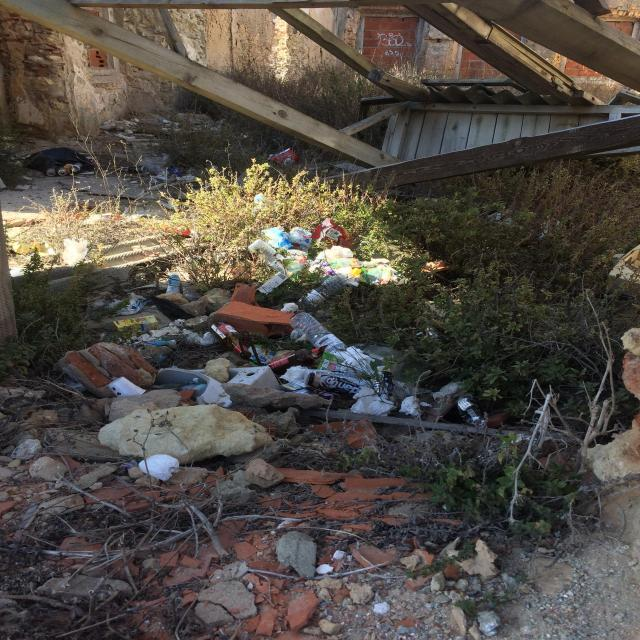litter: (99, 210, 520, 436)
